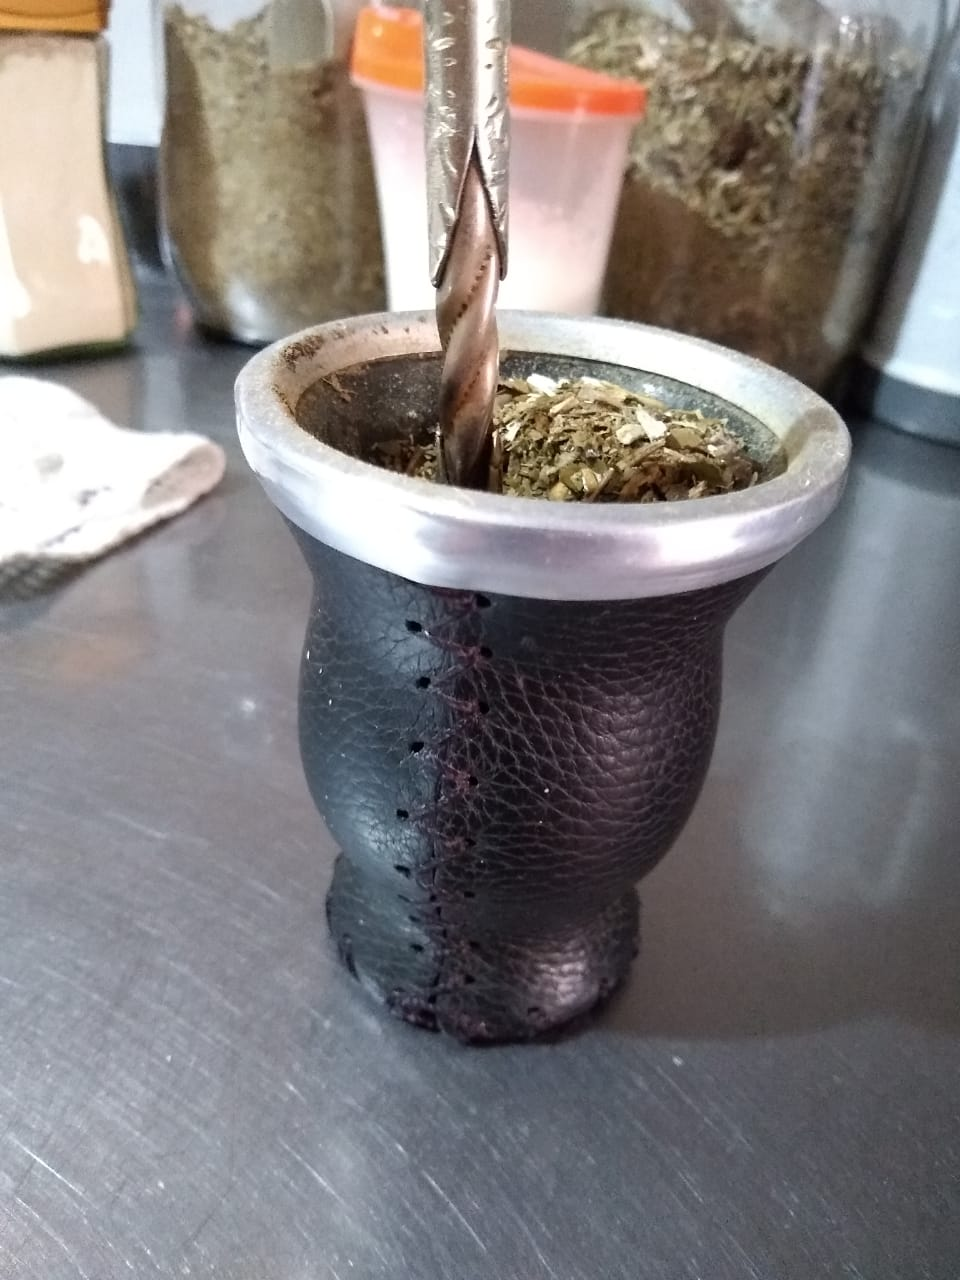madera: (214, 287, 852, 1051)
mate: (216, 289, 854, 1053)
